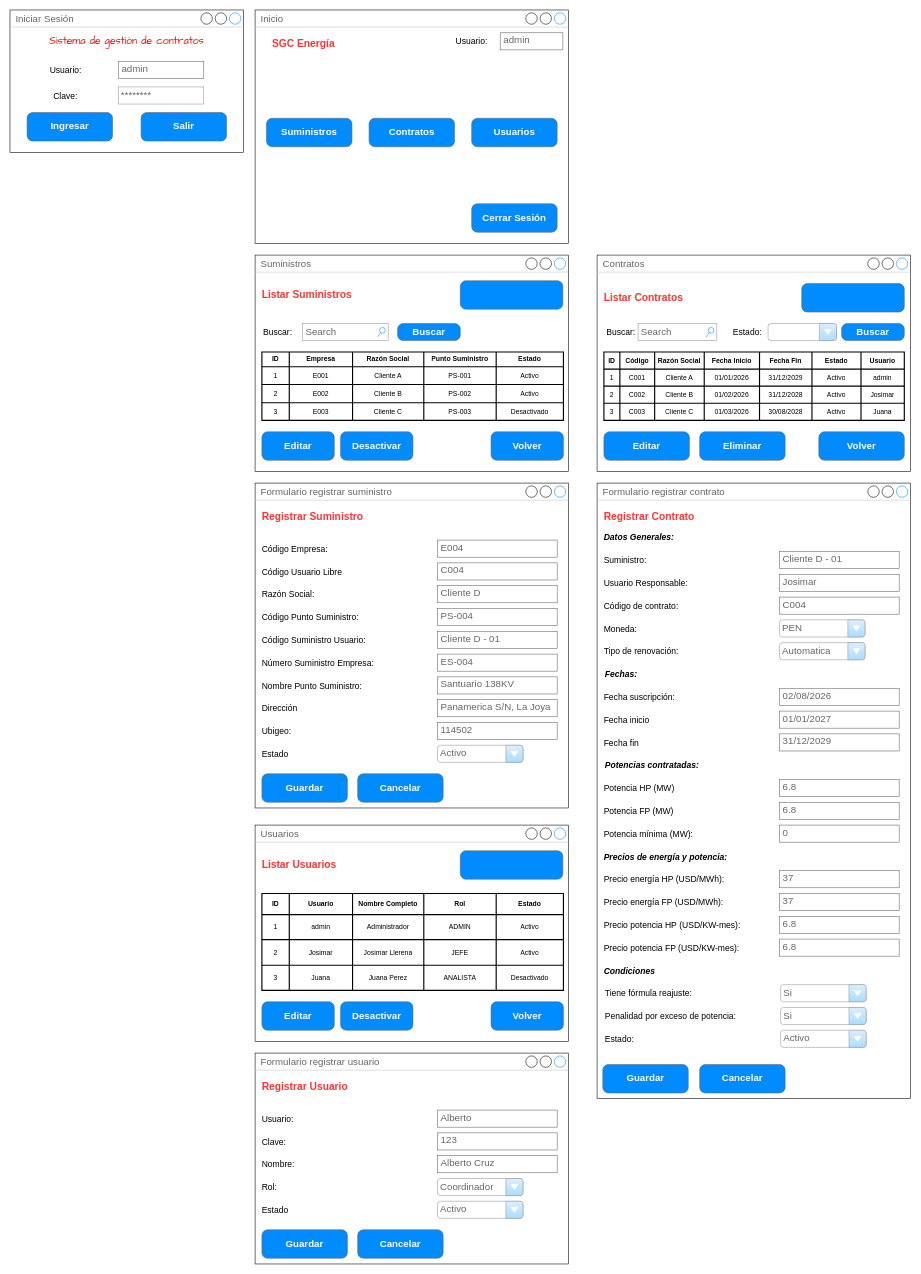
Image size: 921x1274. Some labels were removed from this diagram. The centre of each missing label's shape, as x and y in pixels:
Nuevo Contrato: pixel 852 297
Nuevo Suministro: pixel 511 294
Nuevo Usuario: pixel 511 864
Todos: pixel 802 332
